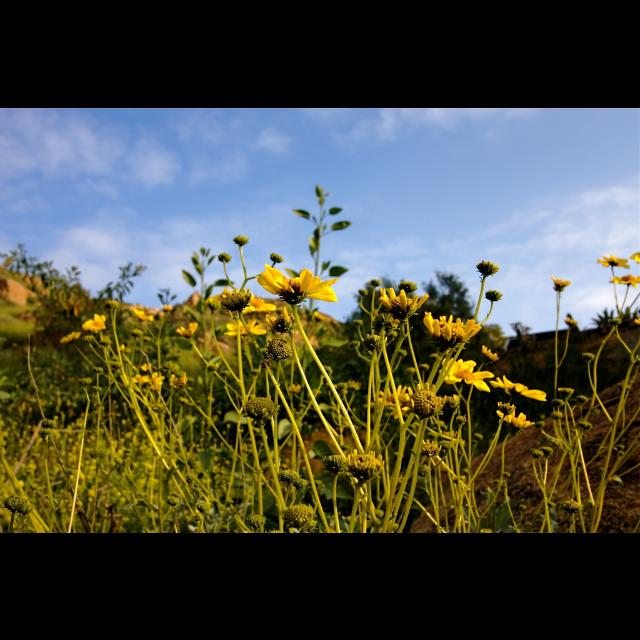Flower: (257, 266, 339, 300), (424, 314, 481, 346), (443, 357, 493, 391), (378, 286, 428, 318), (491, 376, 545, 398), (379, 381, 413, 413), (210, 286, 252, 310), (496, 412, 536, 430), (224, 319, 266, 335), (608, 273, 640, 287), (85, 312, 107, 330), (596, 254, 628, 266), (176, 322, 196, 336), (61, 331, 81, 341), (132, 376, 146, 380)
